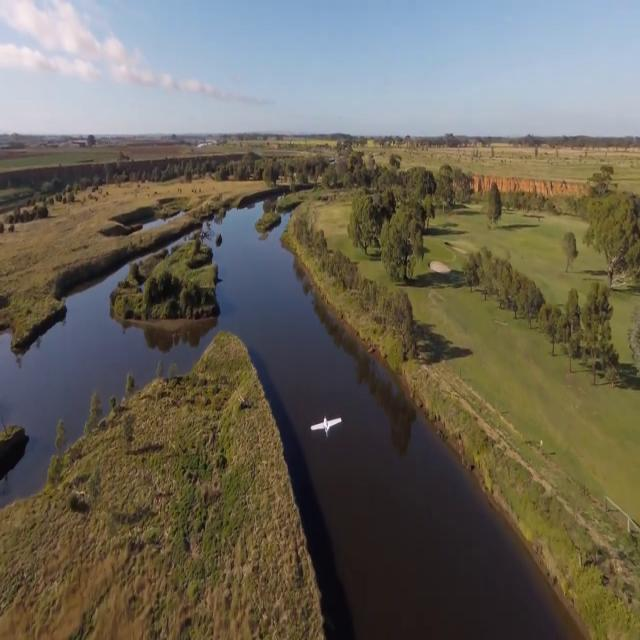iha: (307, 415, 345, 440)
